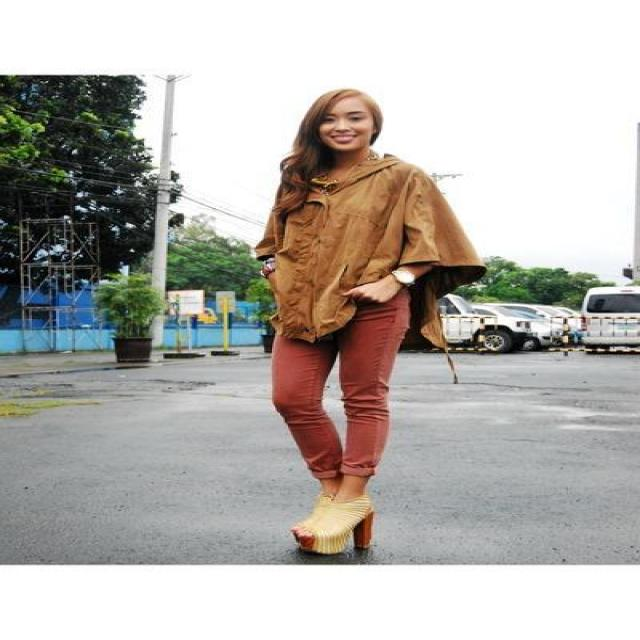jacket: (250, 150, 480, 356)
pants: (272, 294, 421, 486)
shoe: (288, 491, 373, 564)
